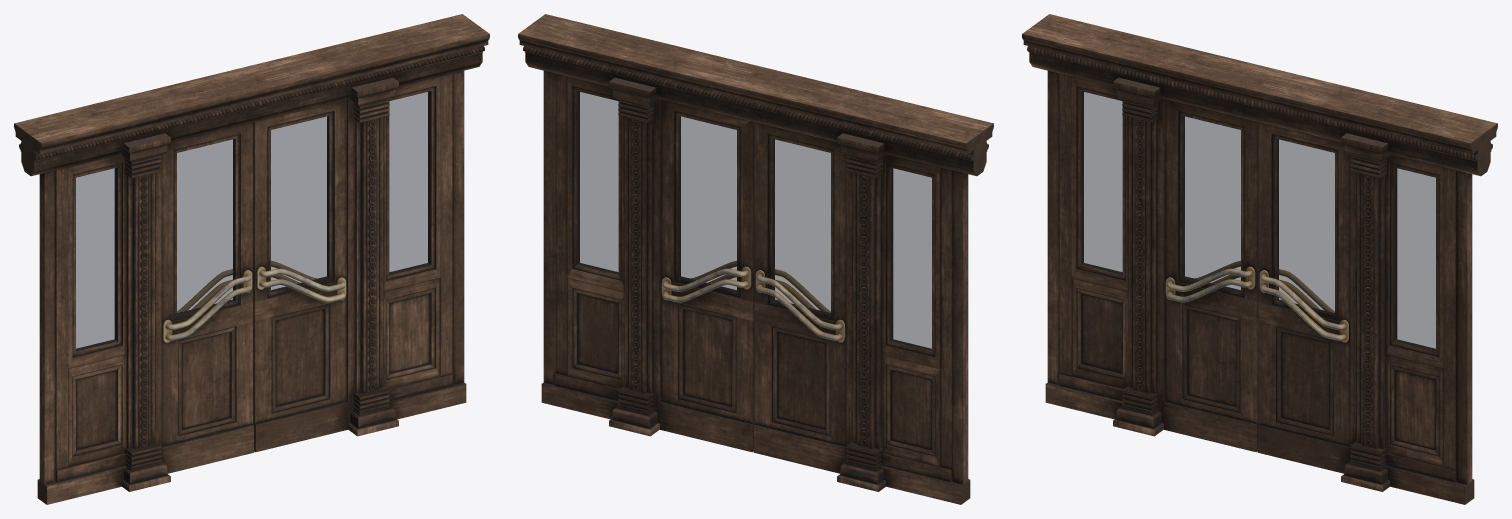
Rendered from doorCasino.glb.
3 views of the same model, side by side, from view 1: azimuth 30°, elevation 25°; view 2: azimuth 150°, elevation 25°; view 3: azimuth 330°, elevation 25° (orthographic).
Visible parts, largest first — view 1: EntranceDoorsFrame, EntranceDoorRight, EntranceDoorLeft; view 2: EntranceDoorsFrame, EntranceDoorRight, EntranceDoorLeft; view 3: EntranceDoorsFrame, EntranceDoorLeft, EntranceDoorRight.
Boxes of the visible parts, box(x1,y1,x2,y2) form: EntranceDoorsFrame: box(14, 14, 489, 504); EntranceDoorRight: box(253, 99, 347, 452); EntranceDoorLeft: box(161, 122, 254, 473); EntranceDoorsFrame: box(518, 14, 993, 504); EntranceDoorRight: box(660, 99, 754, 452); EntranceDoorLeft: box(753, 122, 846, 473); EntranceDoorsFrame: box(1022, 14, 1497, 504); EntranceDoorLeft: box(1164, 99, 1258, 452); EntranceDoorRight: box(1257, 122, 1350, 473).
Size of the model in its own units: 3.11 by 2.46 by 0.3277.
2 materials, 2 textured.
